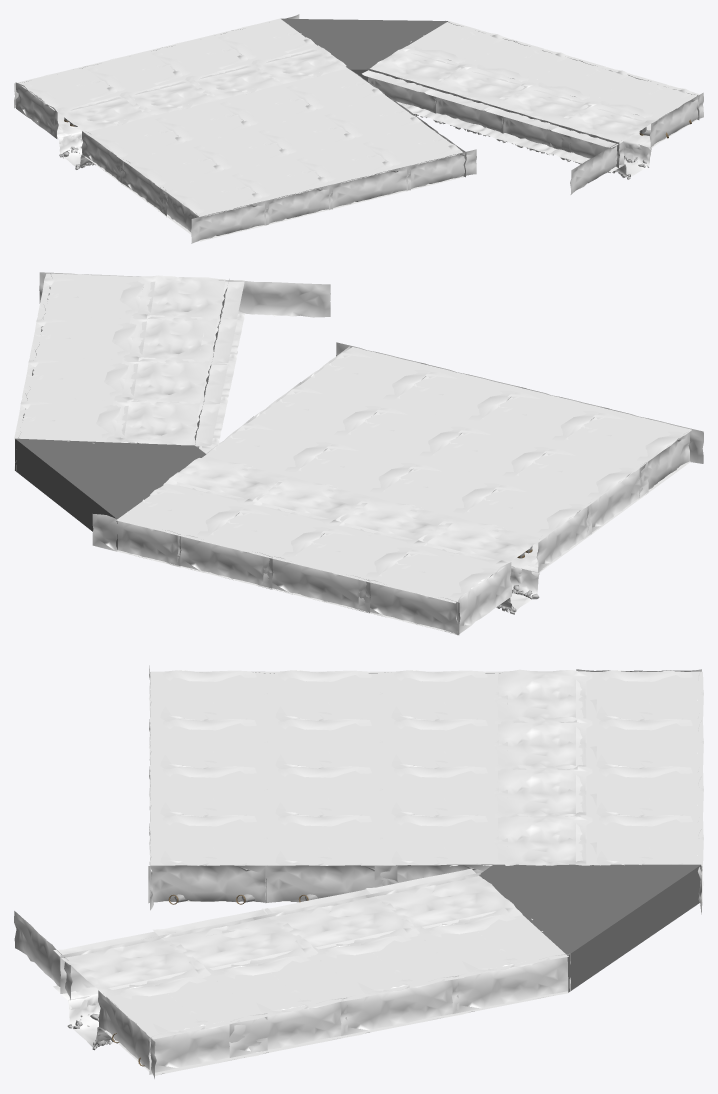
Rendered from Env.fbx.
3 views of the same model, one above another, from view 1: azimuth 30°, elevation 25°; view 2: azimuth 150°, elevation 25°; view 3: azimuth 270°, elevation 25° (orthographic). The views are drawn at different scales.
Parts seen in each view (by area): view 1: Plane__1_, _4x4_Piece_9, _4x4_Piece_17, _4x4_Piece_27, _4x4_Piece_15, _4x4_Piece_23, _4x4_Piece_39, _4x4_Piece_13, _1x1_Gulley_low_roof_1, _4x4_Piece_3, _4x4_Piece_37, _4x4_Piece_11 (+59 smaller); view 2: Plane__1_, _4x4_Piece_37, _4x4_Piece_27, _4x4_Piece_25, _4x4_Piece_17, _4x4_Piece_33, _4x4_Piece_9, _4x4_Piece_29, _4x4_Piece_39, _4x4_Piece_23, _4x4_Piece_35, _4x4_Piece_13 (+52 smaller); view 3: Plane__1_, _4x4_Piece_15, _4x4_Piece_23, _4x4_Piece_3, _4x4_Piece, _4x4_Piece_39, _4x4_Piece_7, _4x4_Piece_17, _4x4_Piece_27, _4x4_Piece_37, _4x4_Piece_9, _4x4_Piece_21 (+52 smaller).
Boxes of the visible parts, x1,y1,x2,y2 form: Plane__1_: (281,18,448,81); _4x4_Piece_9: (162,173,266,241); _4x4_Piece_17: (124,144,228,212); _4x4_Piece_27: (85,117,189,185); _4x4_Piece_15: (359,125,463,193); _4x4_Piece_23: (321,96,425,140); _4x4_Piece_39: (283,69,386,112); _4x4_Piece_13: (295,141,397,208); _1x1_Gulley_low_roof_1: (496,82,598,124); _4x4_Piece_3: (471,39,574,82); _4x4_Piece_37: (214,18,318,62); _4x4_Piece_11: (228,156,331,225); Plane__1_: (15,438,206,549); _4x4_Piece_37: (116,483,249,571); _4x4_Piece_27: (458,481,592,569); _4x4_Piece_25: (370,546,503,633); _4x4_Piece_17: (508,445,641,533); _4x4_Piece_33: (202,504,331,592); _4x4_Piece_9: (557,408,691,497); _4x4_Piece_29: (285,525,418,612); _4x4_Piece_39: (206,419,339,476); _4x4_Piece_23: (254,383,387,439); _4x4_Piece_35: (291,440,421,496); _4x4_Piece_13: (389,367,523,424); Plane__1_: (479,864,701,992); _4x4_Piece_15: (150,816,266,901); _4x4_Piece_23: (265,816,381,901); _4x4_Piece_3: (313,936,463,1034); _4x4_Piece: (418,915,568,1013); _4x4_Piece_39: (381,816,497,865); _4x4_Piece_7: (105,977,258,1075); _4x4_Piece_17: (265,671,381,720); _4x4_Piece_27: (381,671,497,720); _4x4_Piece_37: (586,816,702,901); _4x4_Piece_9: (150,671,265,720); _4x4_Piece_21: (265,768,381,816).
Bounding box in the file's own units: 2076 × 171 × 1603.
